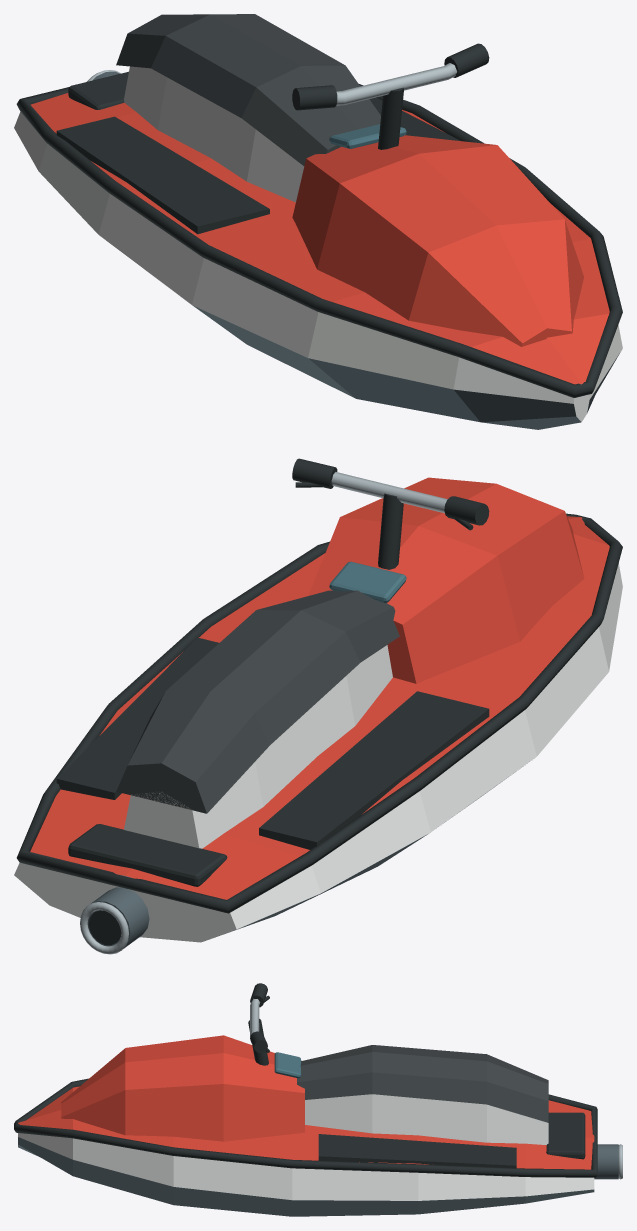
The model's file is watercraft_sport_compact.glb.
3 renders of one model, top to bottom at view 1: azimuth 30°, elevation 25°; view 2: azimuth 150°, elevation 25°; view 3: azimuth 270°, elevation 25°, orthographic. The views are drawn at different scales.
Parts seen in each view (by area): view 1: Sport_Watercraft_Closed_Hull_and_Deck, Sport_Watercraft_Front_Cowling, Sport_Watercraft_Black_Saddle, Sport_Watercraft_Attached_Deck_Rub_Rail, Sport_Watercraft_Footwell_-1, Sport_Watercraft_Seat_Pedestal, Sport_Watercraft_Handlebar, Sport_Watercraft_Rear_Boarding_Pad, Sport_Watercraft_Steering_Stem, Sport_Watercraft_Grip_-1, Sport_Watercraft_Footwell_1, Sport_Watercraft_Grip_1 (+1 smaller); view 2: Sport_Watercraft_Closed_Hull_and_Deck, Sport_Watercraft_Front_Cowling, Sport_Watercraft_Black_Saddle, Sport_Watercraft_Attached_Deck_Rub_Rail, Sport_Watercraft_Footwell_-1, Sport_Watercraft_Seat_Pedestal, Sport_Watercraft_Footwell_1, Sport_Watercraft_Rear_Boarding_Pad, Sport_Watercraft_Instrument_Panel, Sport_Watercraft_Handlebar, Sport_Watercraft_Rear_Jet_Drive_Housing, Sport_Watercraft_Steering_Stem (+4 smaller); view 3: Sport_Watercraft_Closed_Hull_and_Deck, Sport_Watercraft_Front_Cowling, Sport_Watercraft_Black_Saddle, Sport_Watercraft_Seat_Pedestal, Sport_Watercraft_Attached_Deck_Rub_Rail, Sport_Watercraft_Footwell_1, Sport_Watercraft_Rear_Boarding_Pad, Sport_Watercraft_Rear_Jet_Drive_Housing, Sport_Watercraft_Instrument_Panel.
Part boxes in pixels (x1,y1,x2,y2): Sport_Watercraft_Closed_Hull_and_Deck: [14, 93, 622, 429]; Sport_Watercraft_Front_Cowling: [292, 135, 583, 346]; Sport_Watercraft_Black_Saddle: [116, 14, 380, 165]; Sport_Watercraft_Attached_Deck_Rub_Rail: [16, 84, 622, 397]; Sport_Watercraft_Footwell_-1: [56, 116, 269, 234]; Sport_Watercraft_Seat_Pedestal: [124, 66, 304, 202]; Sport_Watercraft_Handlebar: [336, 63, 457, 105]; Sport_Watercraft_Rear_Boarding_Pad: [68, 71, 128, 109]; Sport_Watercraft_Steering_Stem: [378, 87, 403, 149]; Sport_Watercraft_Grip_-1: [292, 85, 337, 110]; Sport_Watercraft_Footwell_1: [369, 97, 460, 140]; Sport_Watercraft_Grip_1: [444, 43, 489, 77]; Sport_Watercraft_Closed_Hull_and_Deck: [14, 516, 622, 942]; Sport_Watercraft_Front_Cowling: [308, 477, 584, 683]; Sport_Watercraft_Black_Saddle: [116, 590, 399, 813]; Sport_Watercraft_Attached_Deck_Rub_Rail: [16, 513, 622, 913]; Sport_Watercraft_Footwell_-1: [259, 691, 489, 849]; Sport_Watercraft_Seat_Pedestal: [124, 645, 392, 848]; Sport_Watercraft_Footwell_1: [56, 637, 218, 799]; Sport_Watercraft_Rear_Boarding_Pad: [68, 824, 227, 886]; Sport_Watercraft_Instrument_Panel: [329, 561, 406, 602]; Sport_Watercraft_Handlebar: [331, 472, 447, 513]; Sport_Watercraft_Rear_Jet_Drive_Housing: [87, 887, 149, 948]; Sport_Watercraft_Steering_Stem: [378, 493, 403, 569]; Sport_Watercraft_Closed_Hull_and_Deck: [18, 1086, 594, 1216]; Sport_Watercraft_Front_Cowling: [61, 1035, 304, 1141]; Sport_Watercraft_Black_Saddle: [297, 1045, 548, 1122]; Sport_Watercraft_Seat_Pedestal: [305, 1094, 548, 1144]; Sport_Watercraft_Attached_Deck_Rub_Rail: [14, 1078, 597, 1177]; Sport_Watercraft_Footwell_1: [318, 1134, 516, 1168]; Sport_Watercraft_Rear_Boarding_Pad: [546, 1112, 585, 1159]; Sport_Watercraft_Rear_Jet_Drive_Housing: [594, 1144, 618, 1179]; Sport_Watercraft_Instrument_Panel: [274, 1052, 301, 1078].
Bounding box in the file's own units: 1.1 × 0.9049 × 2.66.
